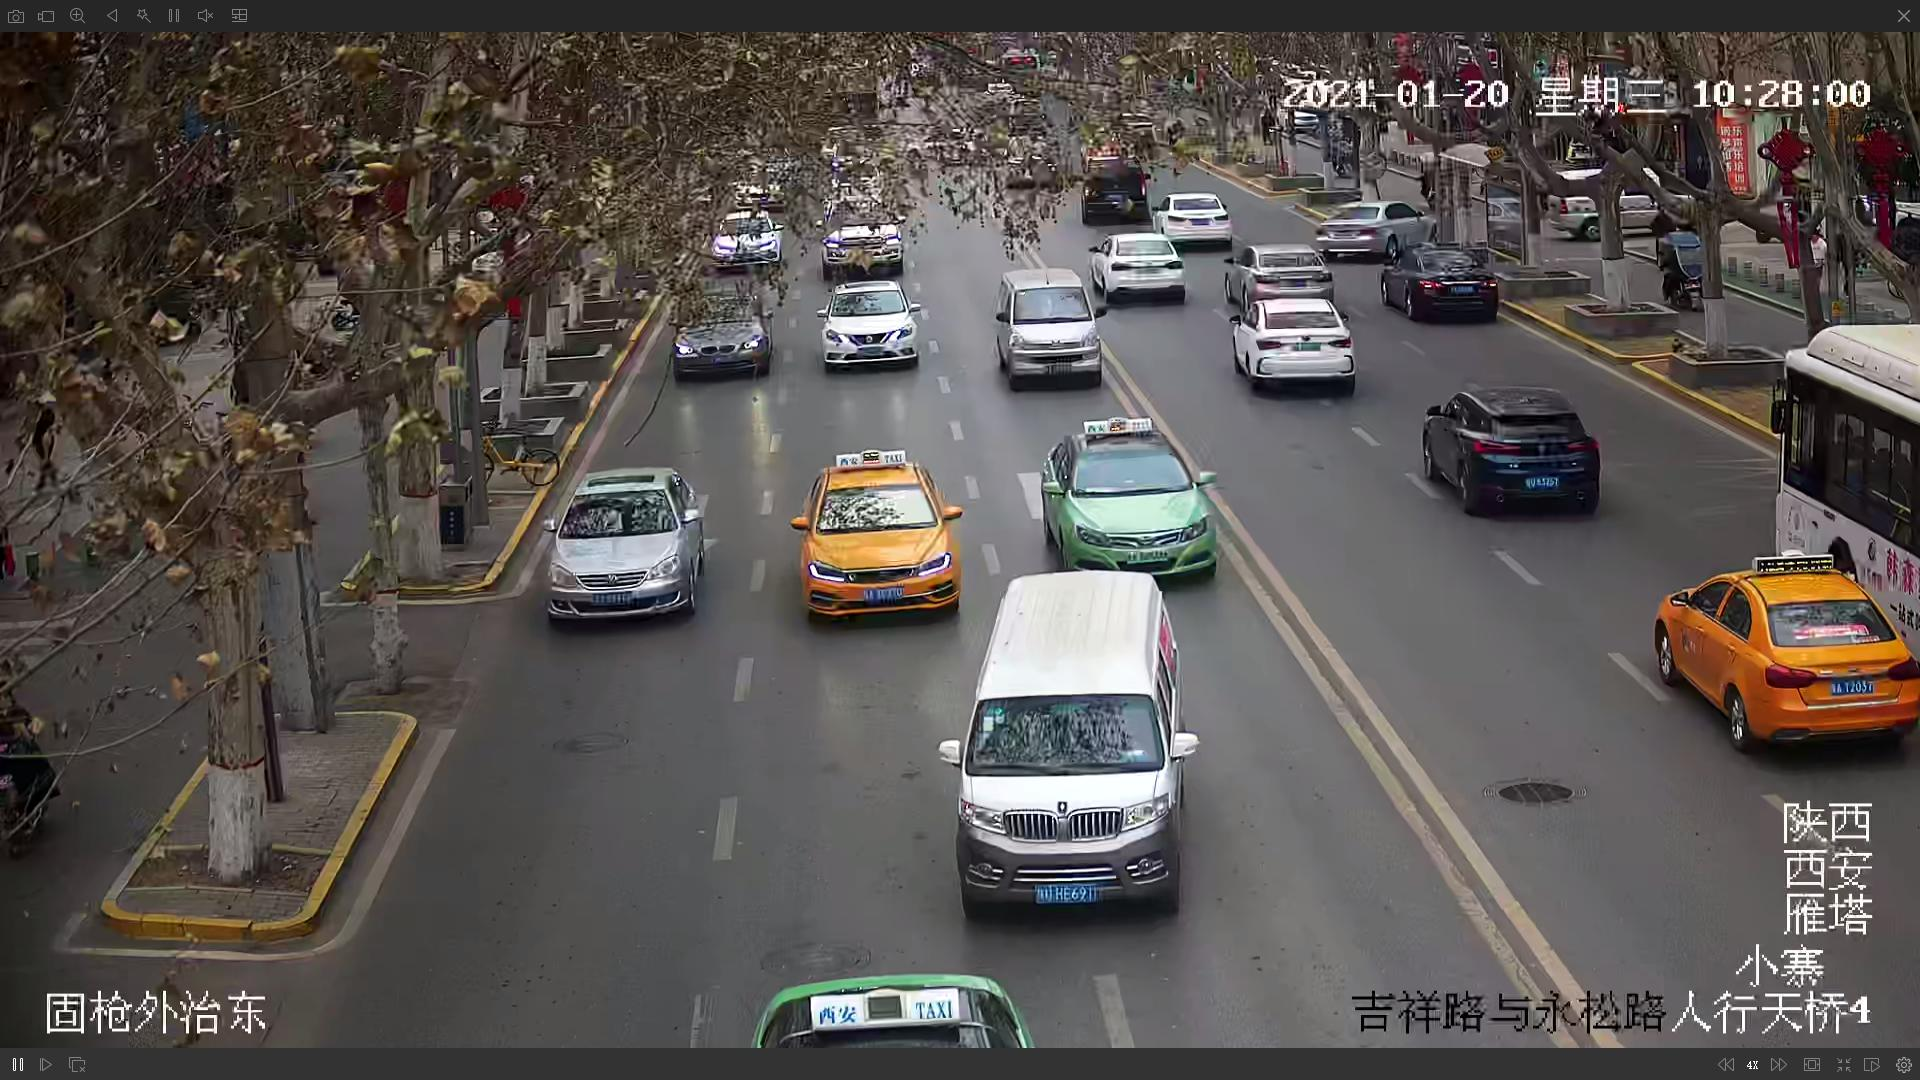grass-green: (1043, 419, 1216, 578)
orange: (787, 451, 957, 608)
silver-gray: (535, 465, 702, 625)
white: (956, 584, 1207, 902)
